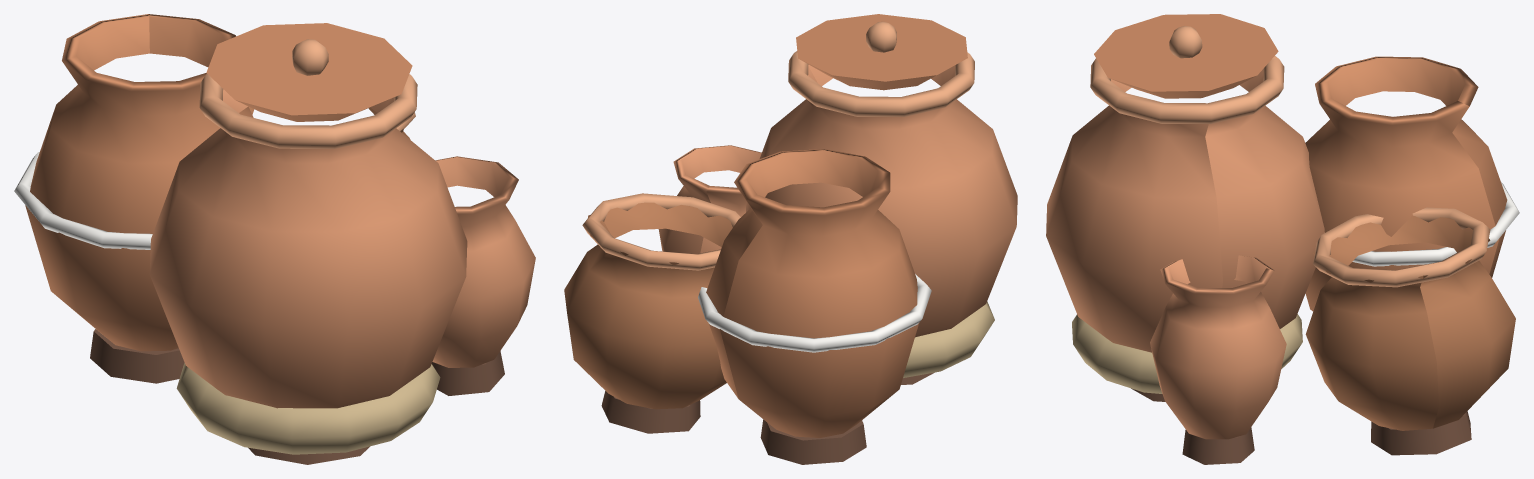
Rendered from traditional_indian_clay_pots_cluster.glb.
3 renders of one model, left to right at view 1: azimuth 30°, elevation 25°; view 2: azimuth 150°, elevation 25°; view 3: azimuth 270°, elevation 25°, orthographic. The views are drawn at different scales.
Visible parts, largest first — view 1: Pot_1_Large_Matka_With_Lid, Pot_2_Medium_Storage_Kudam, Earthenware_Dish_Lid, Pot_4_Small_Drinking_Lota; view 2: Pot_2_Medium_Storage_Kudam, Pot_1_Large_Matka_With_Lid, Pot_3_Squat_WideMouth_Handi, Earthenware_Dish_Lid, Pot_4_Small_Drinking_Lota; view 3: Pot_1_Large_Matka_With_Lid, Pot_3_Squat_WideMouth_Handi, Pot_2_Medium_Storage_Kudam, Pot_4_Small_Drinking_Lota, Earthenware_Dish_Lid.
Part boxes in pixels (box(x1,y1,x2,y2)): Pot_1_Large_Matka_With_Lid: box(149, 73, 467, 464); Pot_2_Medium_Storage_Kudam: box(14, 14, 253, 383); Earthenware_Dish_Lid: box(206, 23, 412, 121); Pot_4_Small_Drinking_Lota: box(431, 156, 535, 395); Pot_2_Medium_Storage_Kudam: box(698, 149, 931, 464); Pot_1_Large_Matka_With_Lid: box(746, 51, 1017, 384); Pot_3_Squat_WideMouth_Handi: box(564, 193, 740, 433); Earthenware_Dish_Lid: box(796, 14, 967, 90); Pot_4_Small_Drinking_Lota: box(658, 145, 761, 253); Pot_1_Large_Matka_With_Lid: box(1046, 56, 1324, 401); Pot_3_Squat_WideMouth_Handi: box(1305, 207, 1515, 455); Pot_2_Medium_Storage_Kudam: box(1305, 56, 1519, 311); Pot_4_Small_Drinking_Lota: box(1150, 255, 1286, 464); Earthenware_Dish_Lid: box(1094, 14, 1278, 98).
Size of the model in its own units: 0.6042 by 0.5915 by 0.7152.
